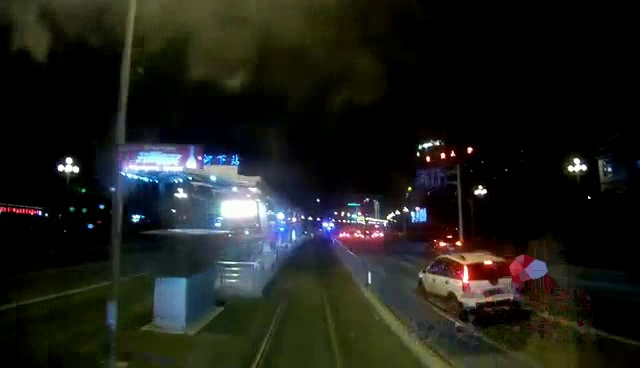car: (418, 250, 521, 310), (432, 235, 466, 254)
